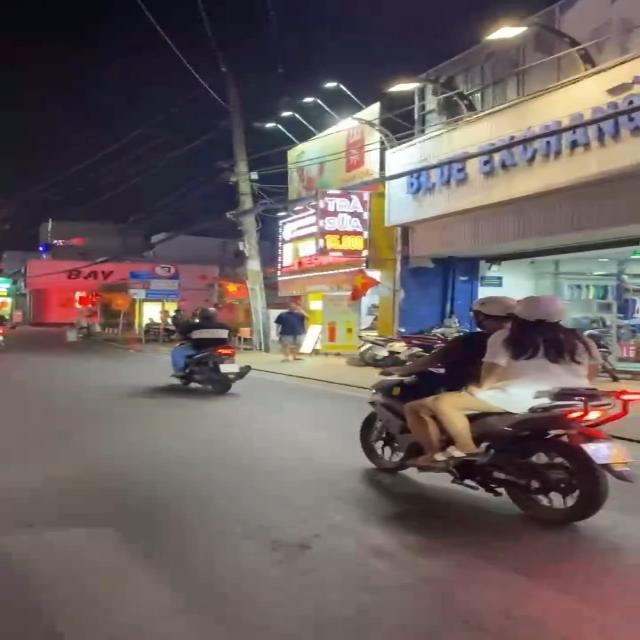123a-cam-re-trai: (152, 262, 178, 278)
